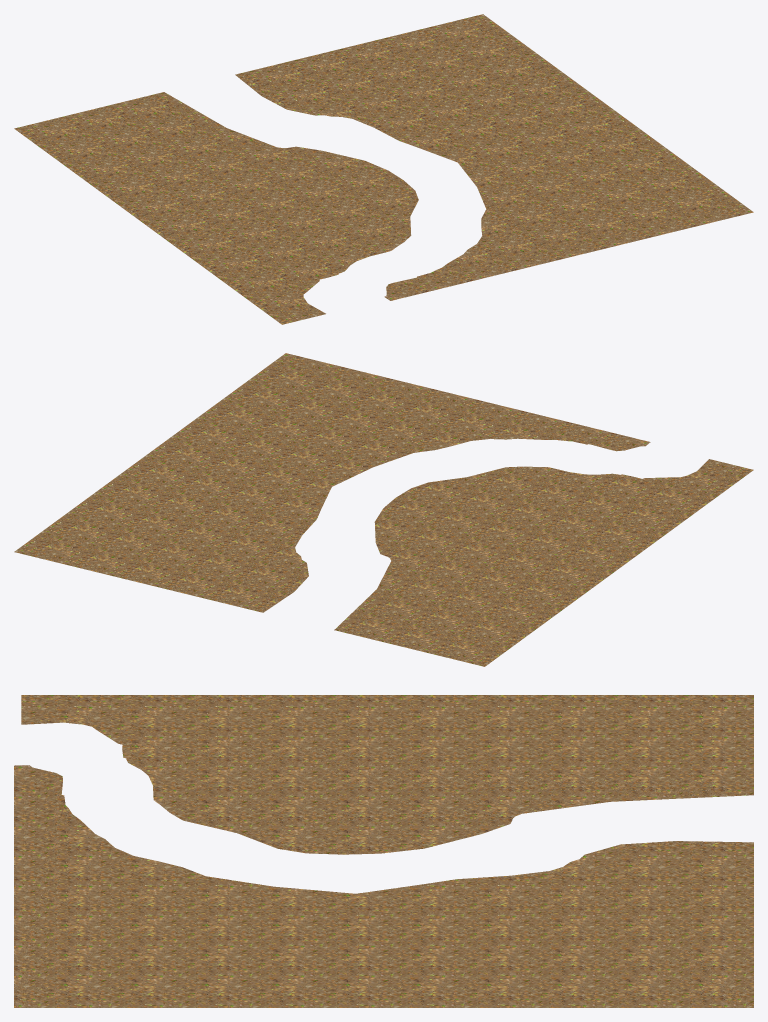
Rendered from material3.002_lev3.glb.
3 renders of one model, top to bottom at view 1: azimuth 30°, elevation 25°; view 2: azimuth 150°, elevation 25°; view 3: azimuth 270°, elevation 25°, orthographic. The views are drawn at different scales.
Visible parts, largest first — view 1: material3.002_lev3; view 2: material3.002_lev3; view 3: material3.002_lev3.
Part boxes in pixels (<box>): material3.002_lev3: <box>14,14,753,324</box>; material3.002_lev3: <box>14,353,753,666</box>; material3.002_lev3: <box>14,695,753,1007</box>.
Size of the model in its own units: 3.71 by 1.25e-06 by 3.71.
1 material, 1 textured.
